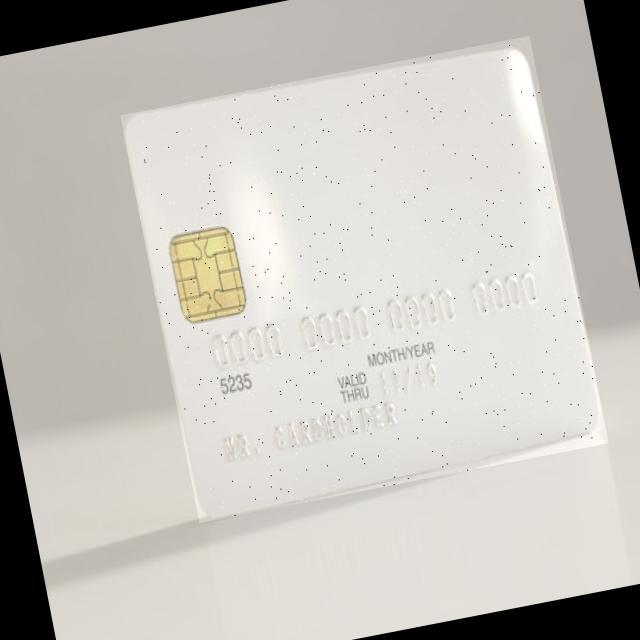payment_card: (118, 35, 607, 522)
